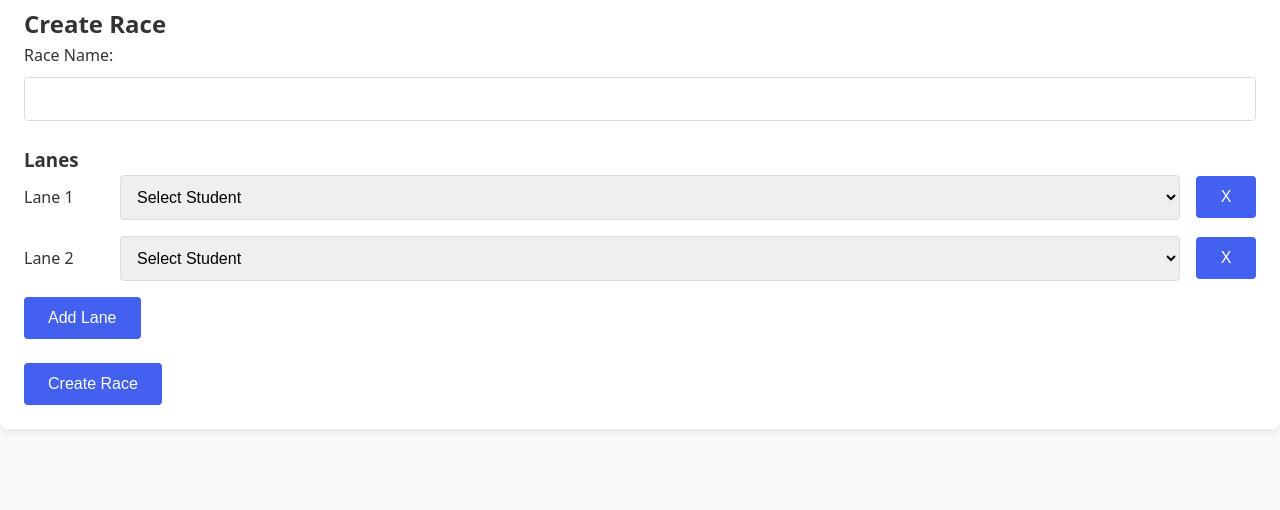
Scenario: RaceForm › allows adding lanes
Expected: the number of elements with test id "lane-input" is 2, [24,175,1256,220]; [24,236,1256,281]
Note: Add a lane
Click the button "Add Lane" at (82, 318), box [24,297,140,339]
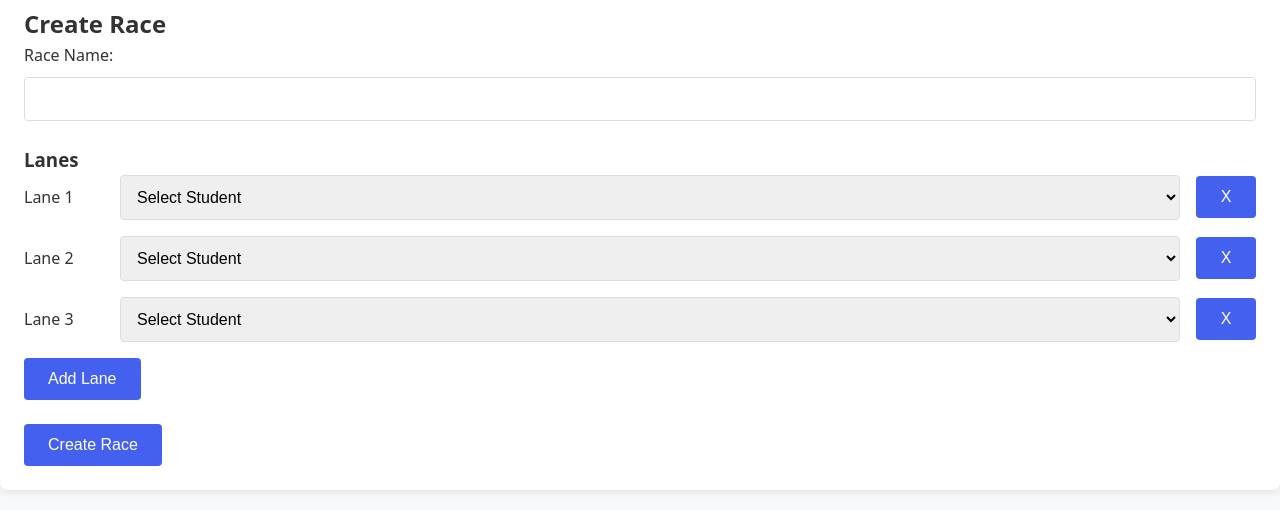
Now the number of elements with test id "lane-input" is 3, box [24,175,1256,220]; [24,236,1256,281]; [24,297,1256,342]
